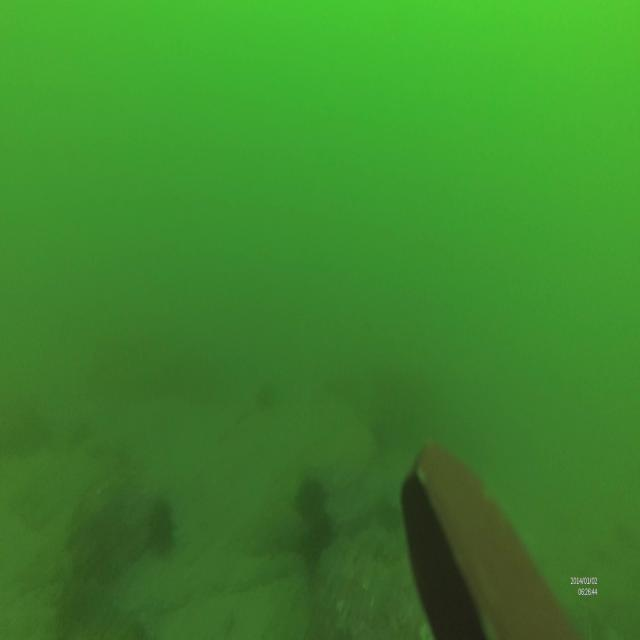echinus: (147, 498, 175, 558), (300, 510, 336, 553), (295, 476, 327, 519)
